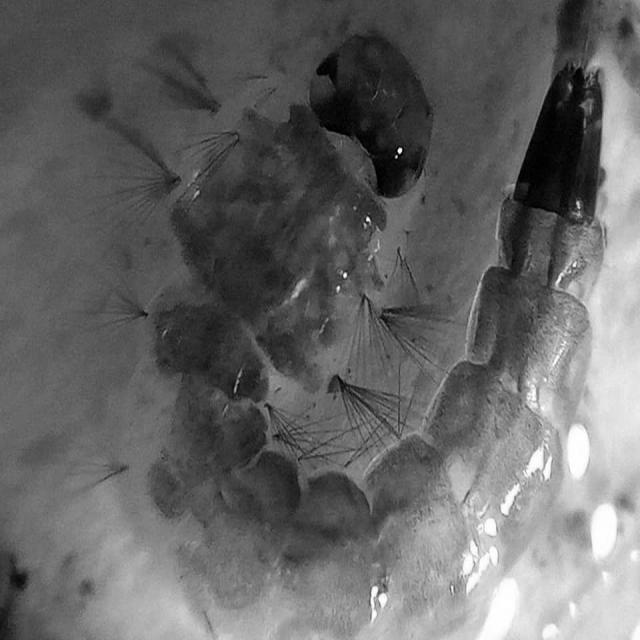larvas: (140, 21, 608, 612)
